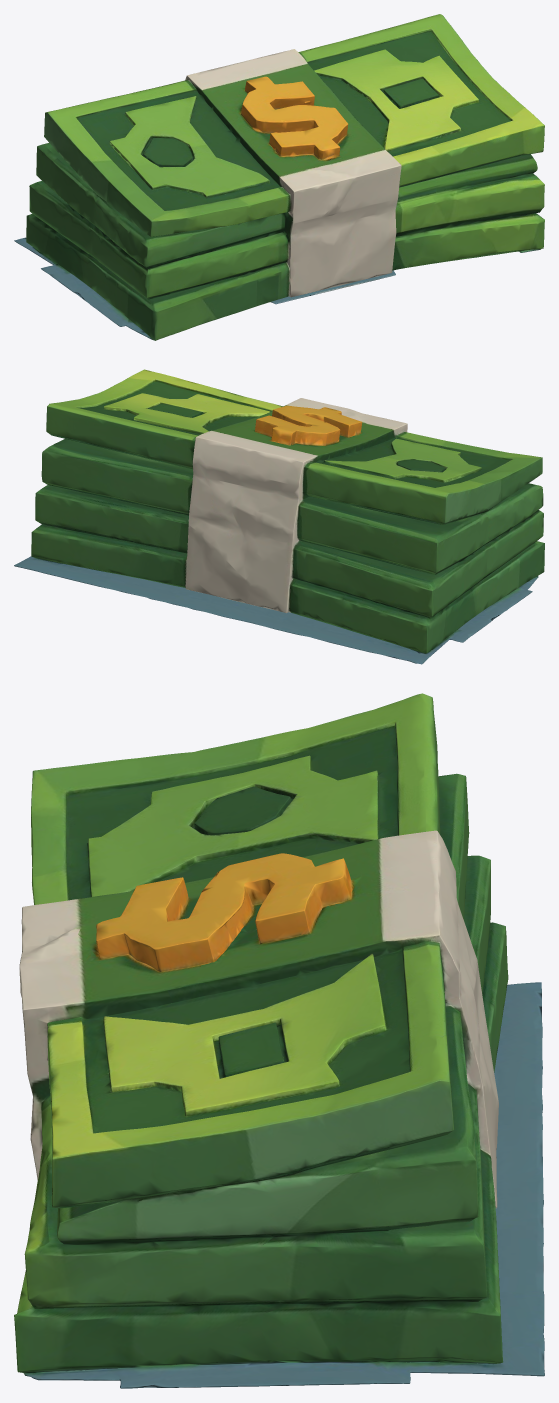
File: money_1k_real.glb
3 renders of one model, top to bottom at view 1: azimuth 30°, elevation 25°; view 2: azimuth 150°, elevation 25°; view 3: azimuth 270°, elevation 25°, orthographic. The views are drawn at different scales.
Visible parts, largest first — view 1: tripo_node_c1549002-404e-432c-8d5d-138185f3d414; view 2: tripo_node_c1549002-404e-432c-8d5d-138185f3d414; view 3: tripo_node_c1549002-404e-432c-8d5d-138185f3d414.
Part boxes in pixels (left/top/right/bottom): tripo_node_c1549002-404e-432c-8d5d-138185f3d414: left=14, top=14, right=544, bottom=340; tripo_node_c1549002-404e-432c-8d5d-138185f3d414: left=14, top=369, right=544, bottom=664; tripo_node_c1549002-404e-432c-8d5d-138185f3d414: left=14, top=693, right=544, bottom=1388.
Size of the model in its own units: 1 by 0.3622 by 0.5536.
Materials: 1 (1 with a texture image).
